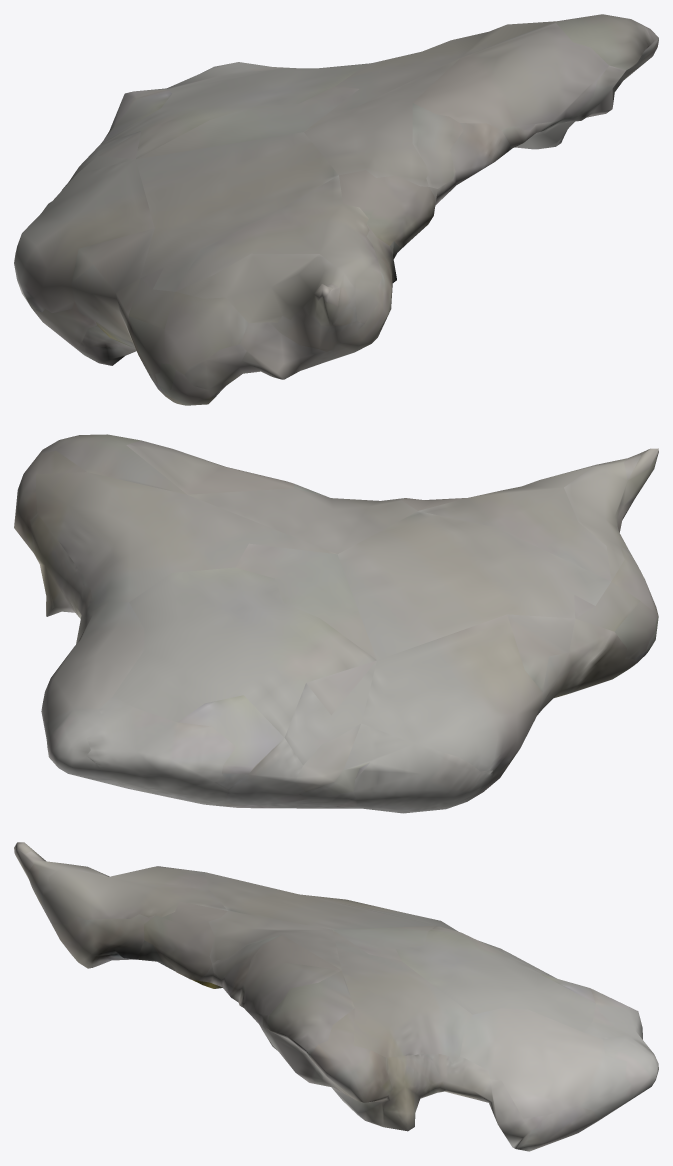
Rendered from hall.glb.
3 views of the same model, one above another, from view 1: azimuth 30°, elevation 25°; view 2: azimuth 150°, elevation 25°; view 3: azimuth 270°, elevation 25° (orthographic). The views are drawn at different scales.
Size of the model in its own units: 0.1583 by 0.0677 by 0.1762.
Materials: 1 (1 with a texture image).
